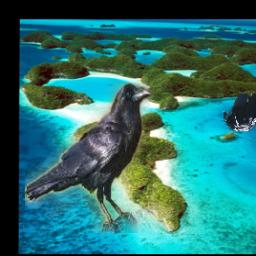Crow: (25, 83, 153, 233), (223, 95, 256, 132)
